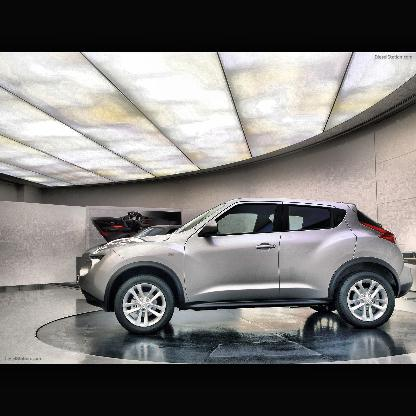Nissan Juke Hatchback 2012: (74, 197, 414, 340)
